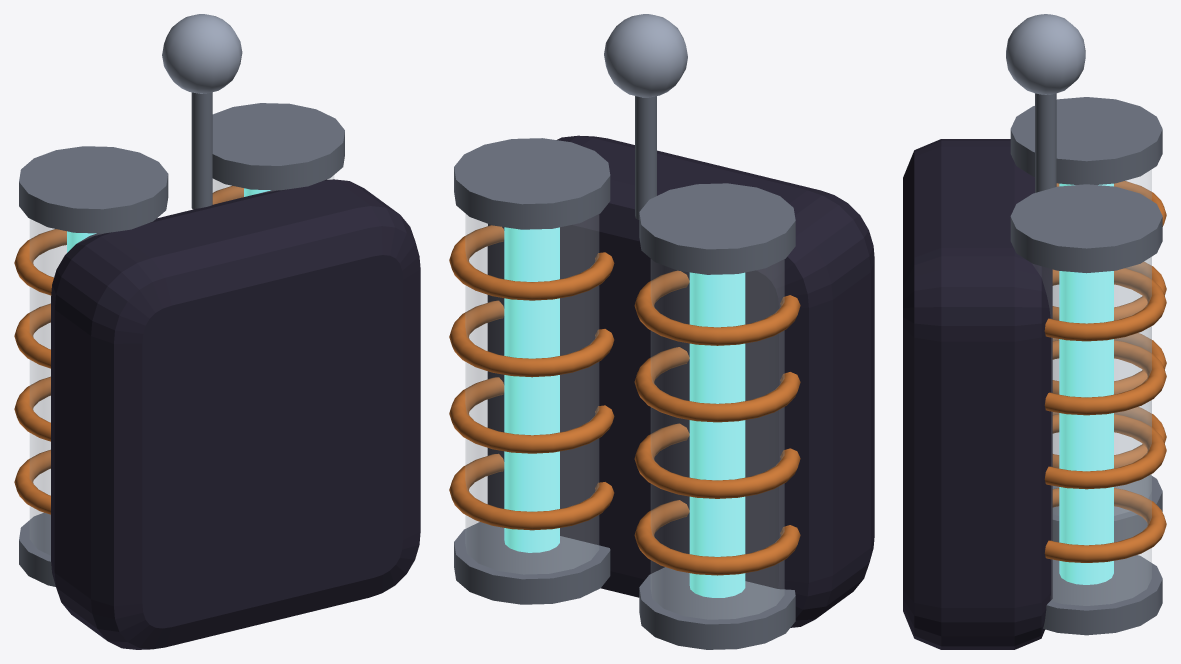
The model's file is back_eqgw0.glb.
3 renders of one model, left to right at view 1: azimuth 30°, elevation 25°; view 2: azimuth 150°, elevation 25°; view 3: azimuth 270°, elevation 25°, orthographic. The views are drawn at different scales.
Size of the model in its own units: 1.4 by 2.33 by 0.97.
